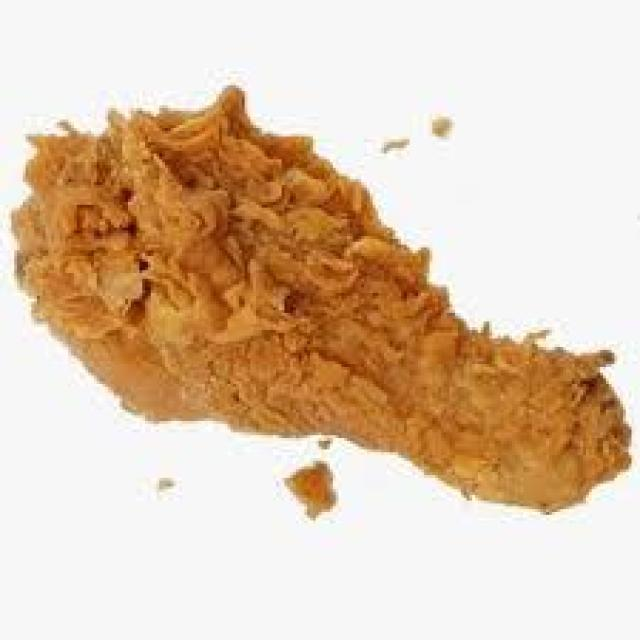Frango: (11, 80, 632, 512)
